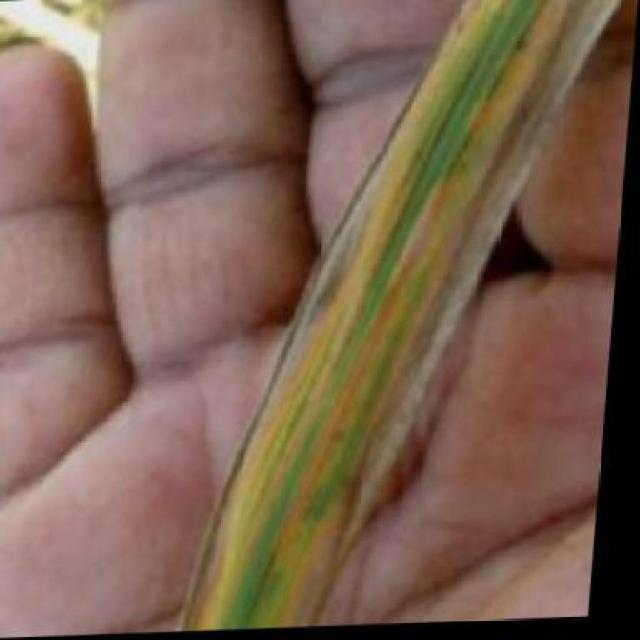Brown_Spot: (188, 26, 566, 617)
